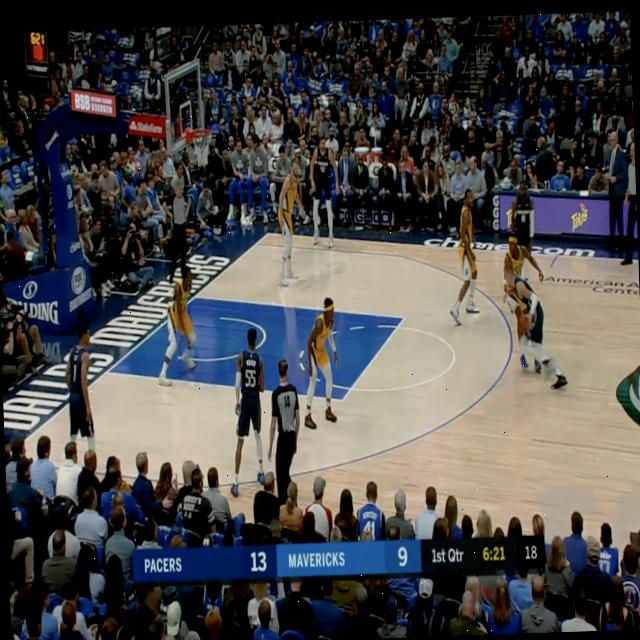no foul: (492, 232, 573, 391)
